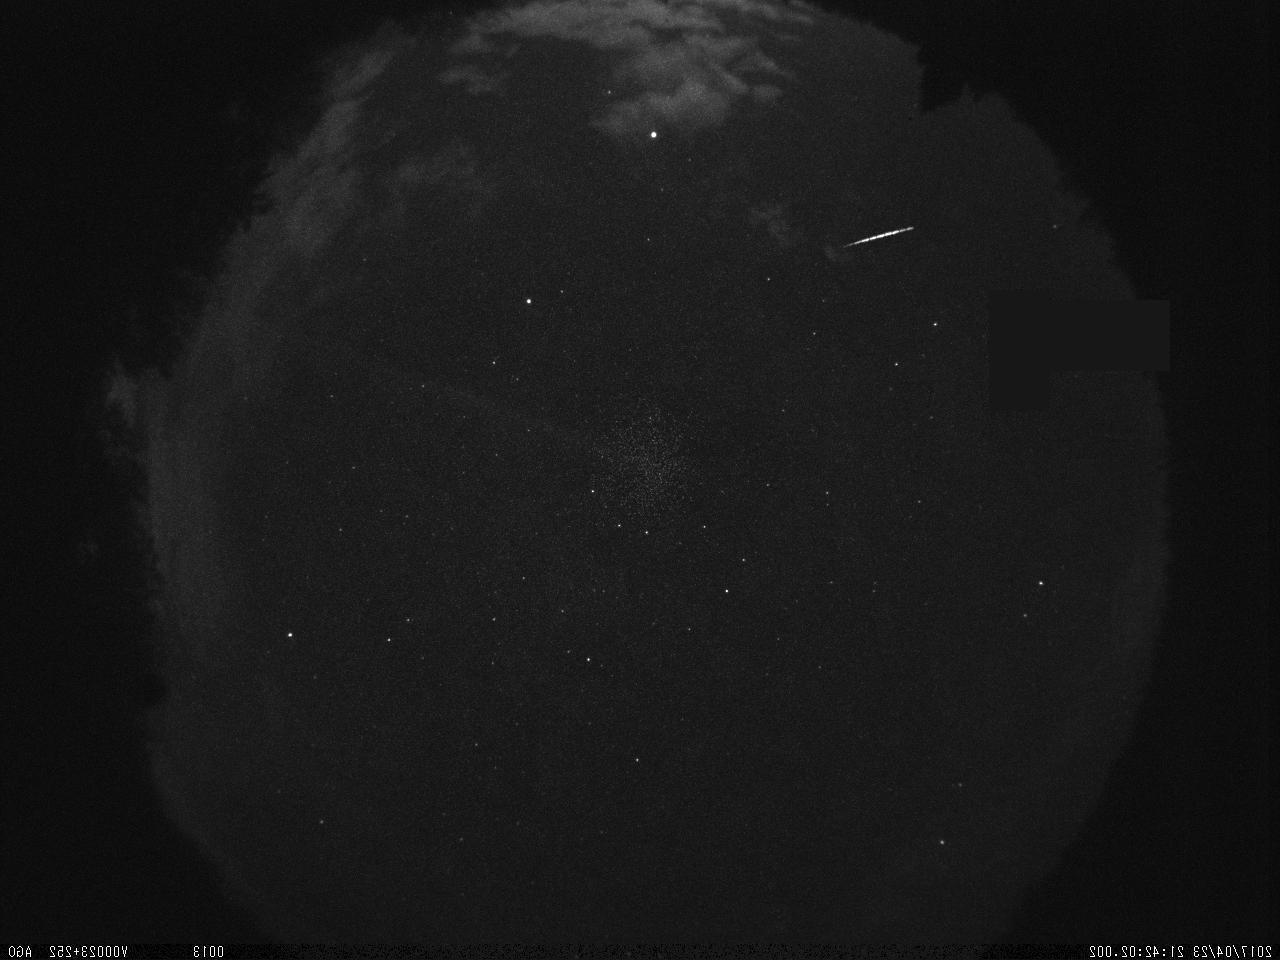meteor: (830, 214, 927, 257)
